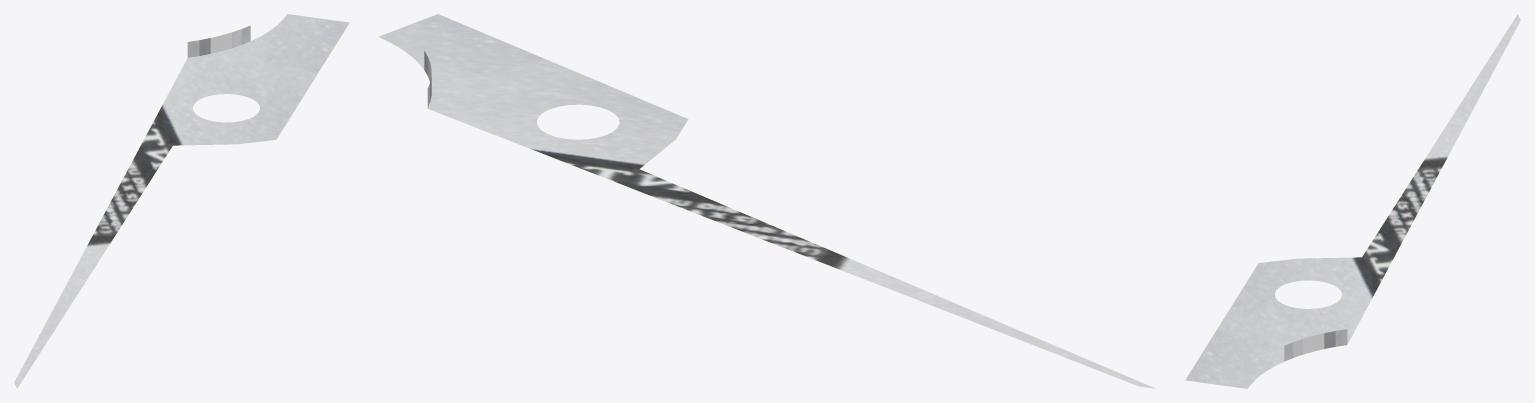
3 views of the same model, side by side, from view 1: azimuth 90°, elevation 25°; view 2: azimuth 150°, elevation 25°; view 3: azimuth 270°, elevation 25° (orthographic). The views are drawn at different scales.
Bounding box in the file's own units: 0.9438 × 0.0187 × 0.3571.
